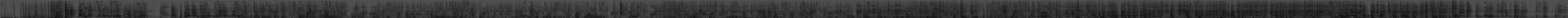Moan: (1170, 0, 1175, 18)
